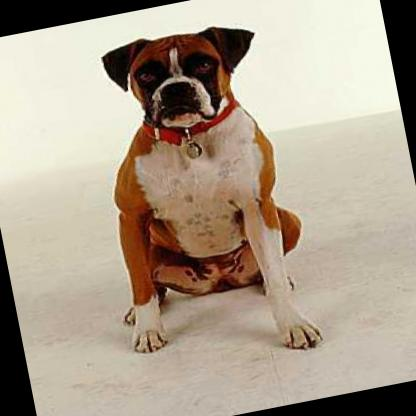boxer: (55, 6, 331, 387)
